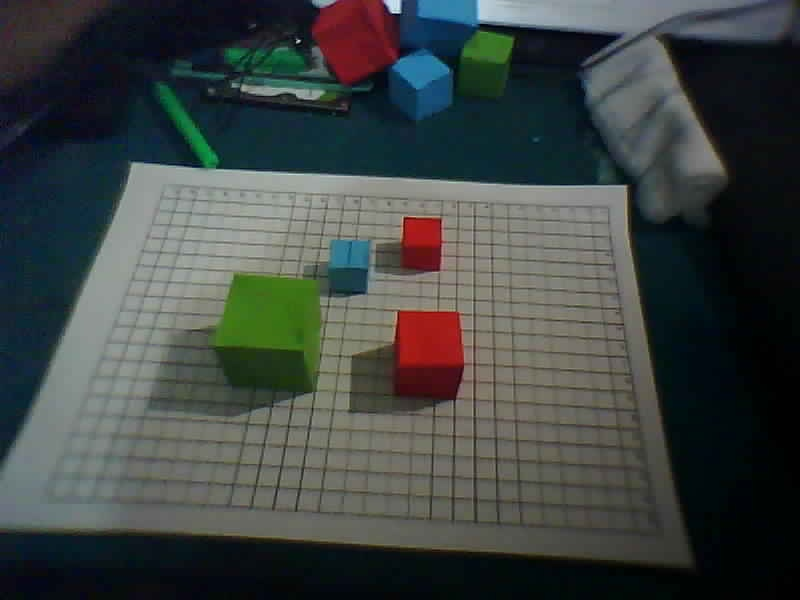LB: (40, 496, 48, 502)
LT: (162, 182, 170, 188)
RB: (656, 531, 664, 537)
RT: (605, 204, 613, 210)
